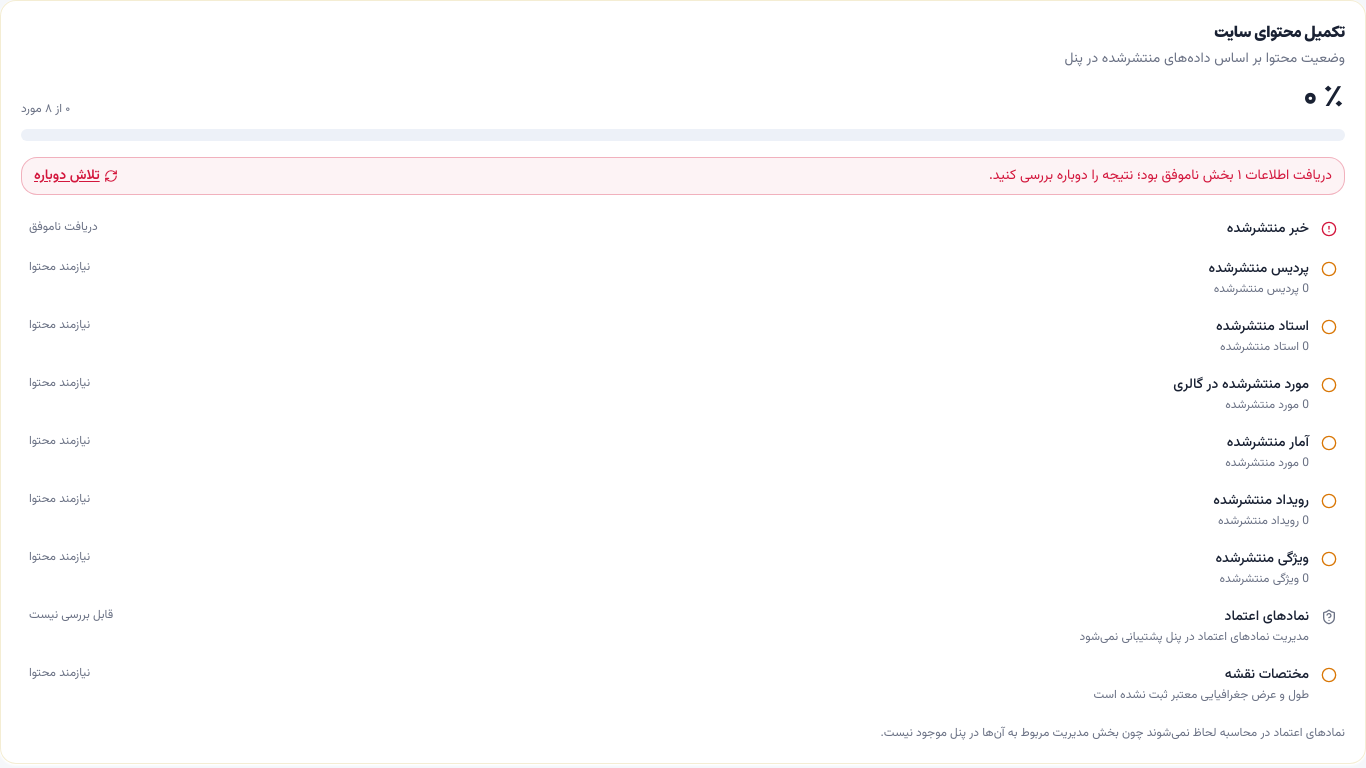
it: DashboardContentCompleteness › distinguishes empty sections from fetch errors and offers retry
Expected: the message shows "دریافت اطلاعات ۱ بخش ناموفق بود", [21,157,1345,195]
Expected: the link "خبر منتشرشده دریافت ناموفق" is shown, [21,211,1345,247]
Click the button "تلاش دوباره".
click(76, 176)  # box [34,166,118,186]
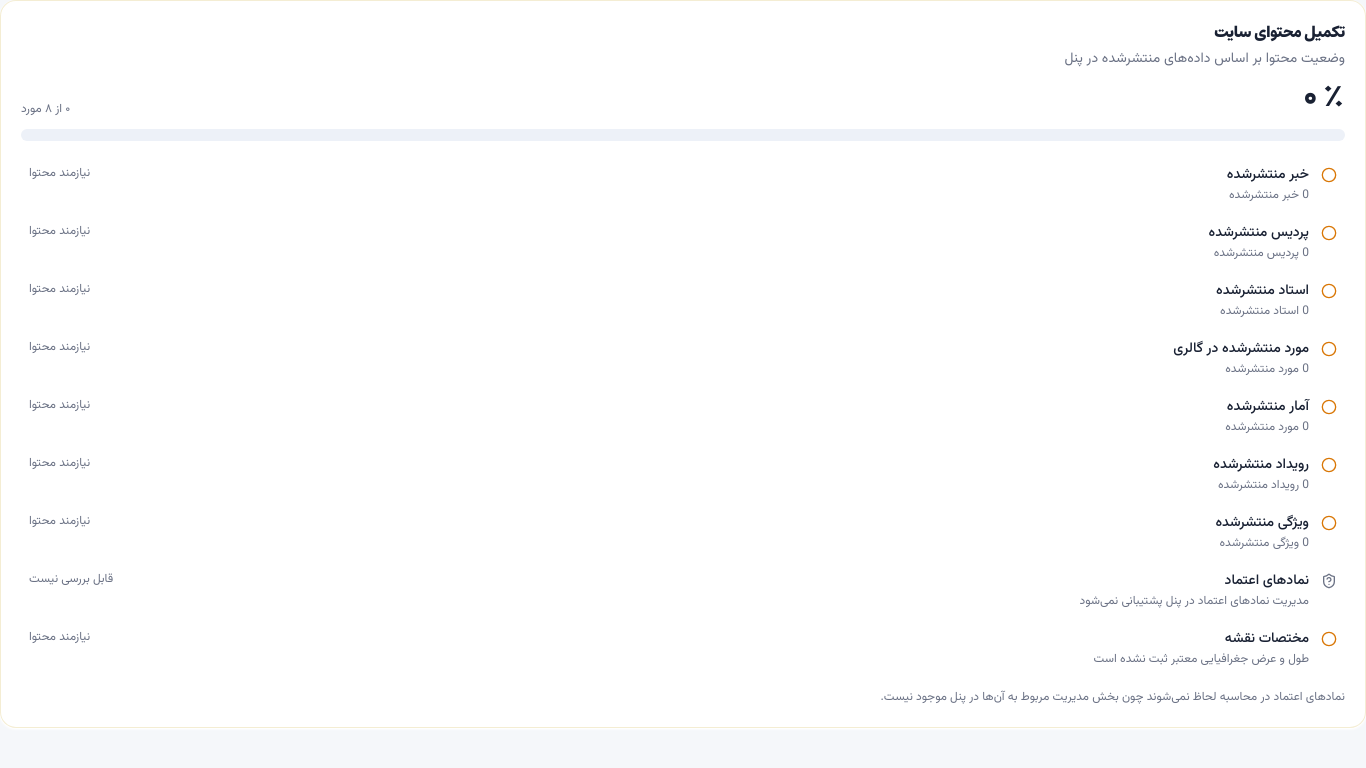
Expected: the message "دریافت اطلاعات ۱ بخش ناموفق بود؛ نتیجه را دوباره بررسی کنید. تلاش دوباره" is gone
